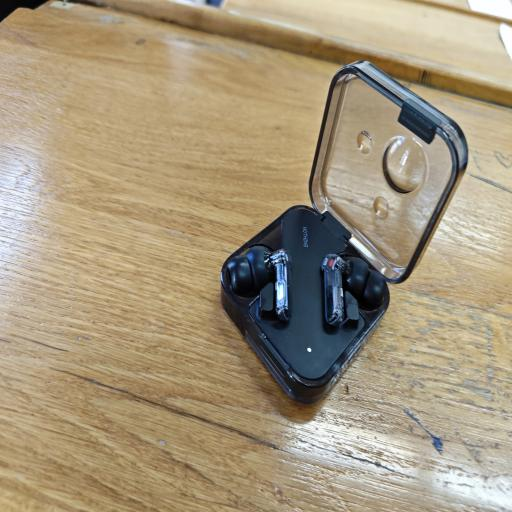Headphones: (216, 58, 470, 409)
